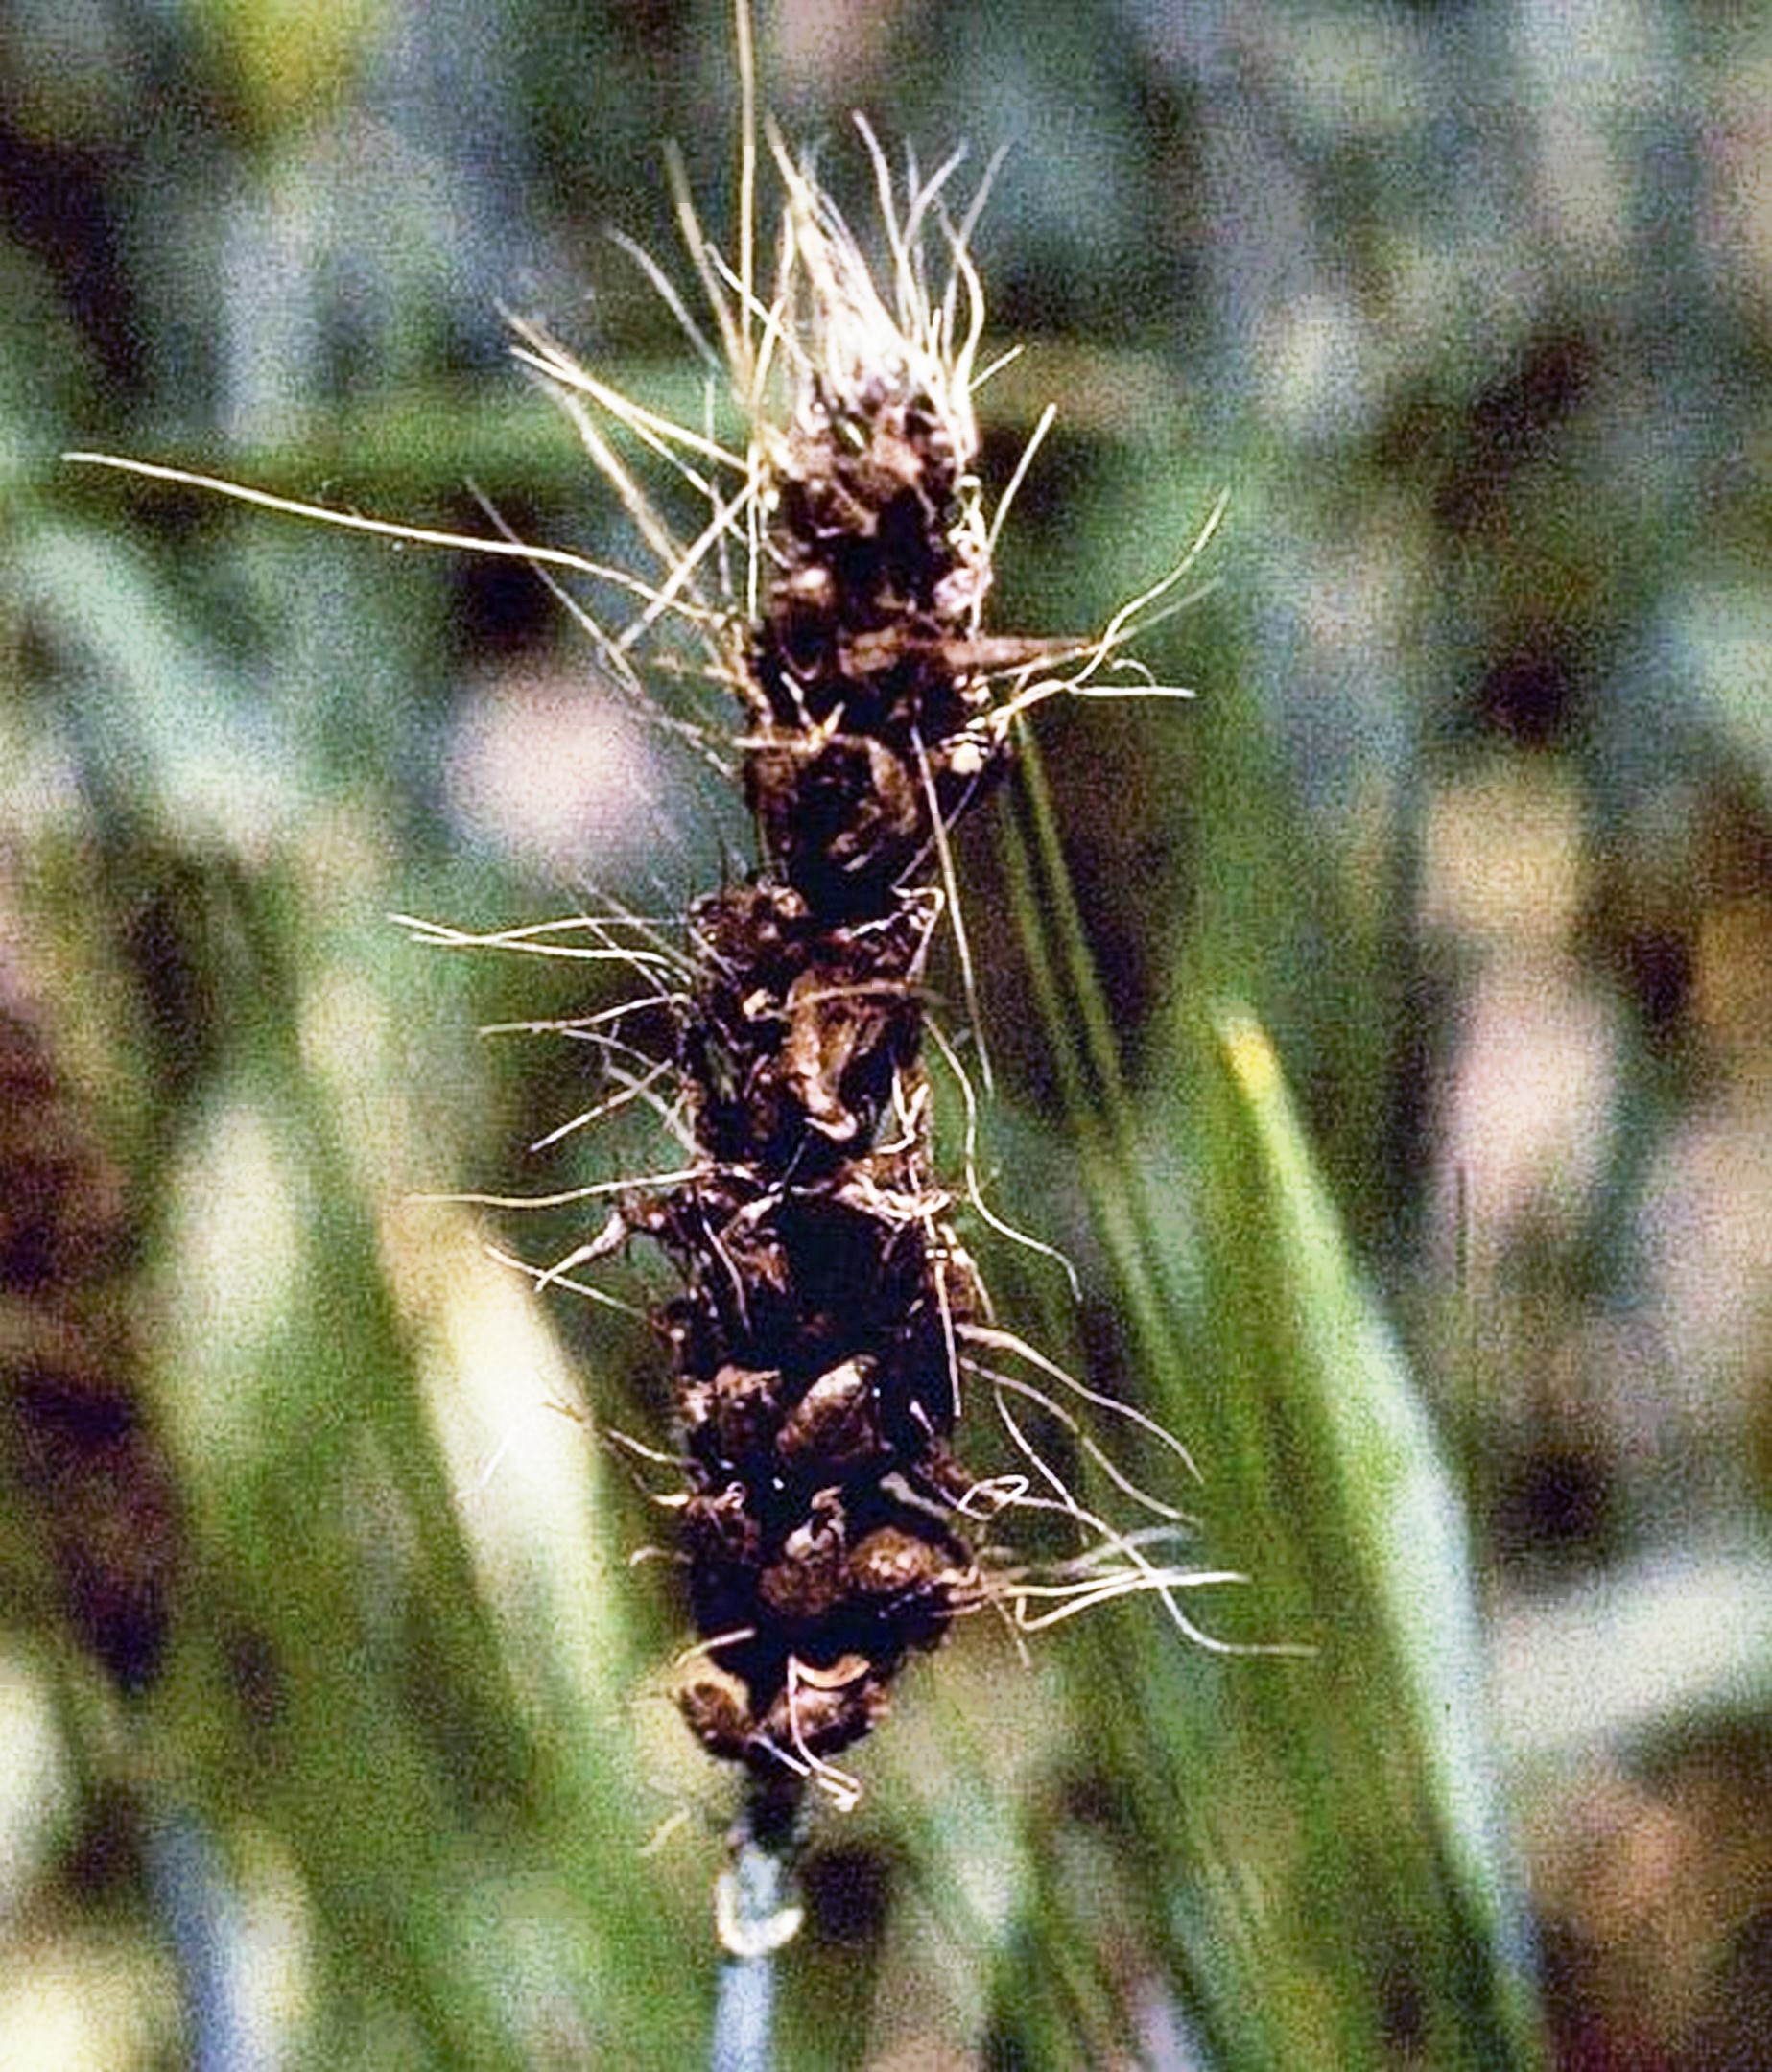Wheat Loose Smut: (592, 250, 1095, 1828)
